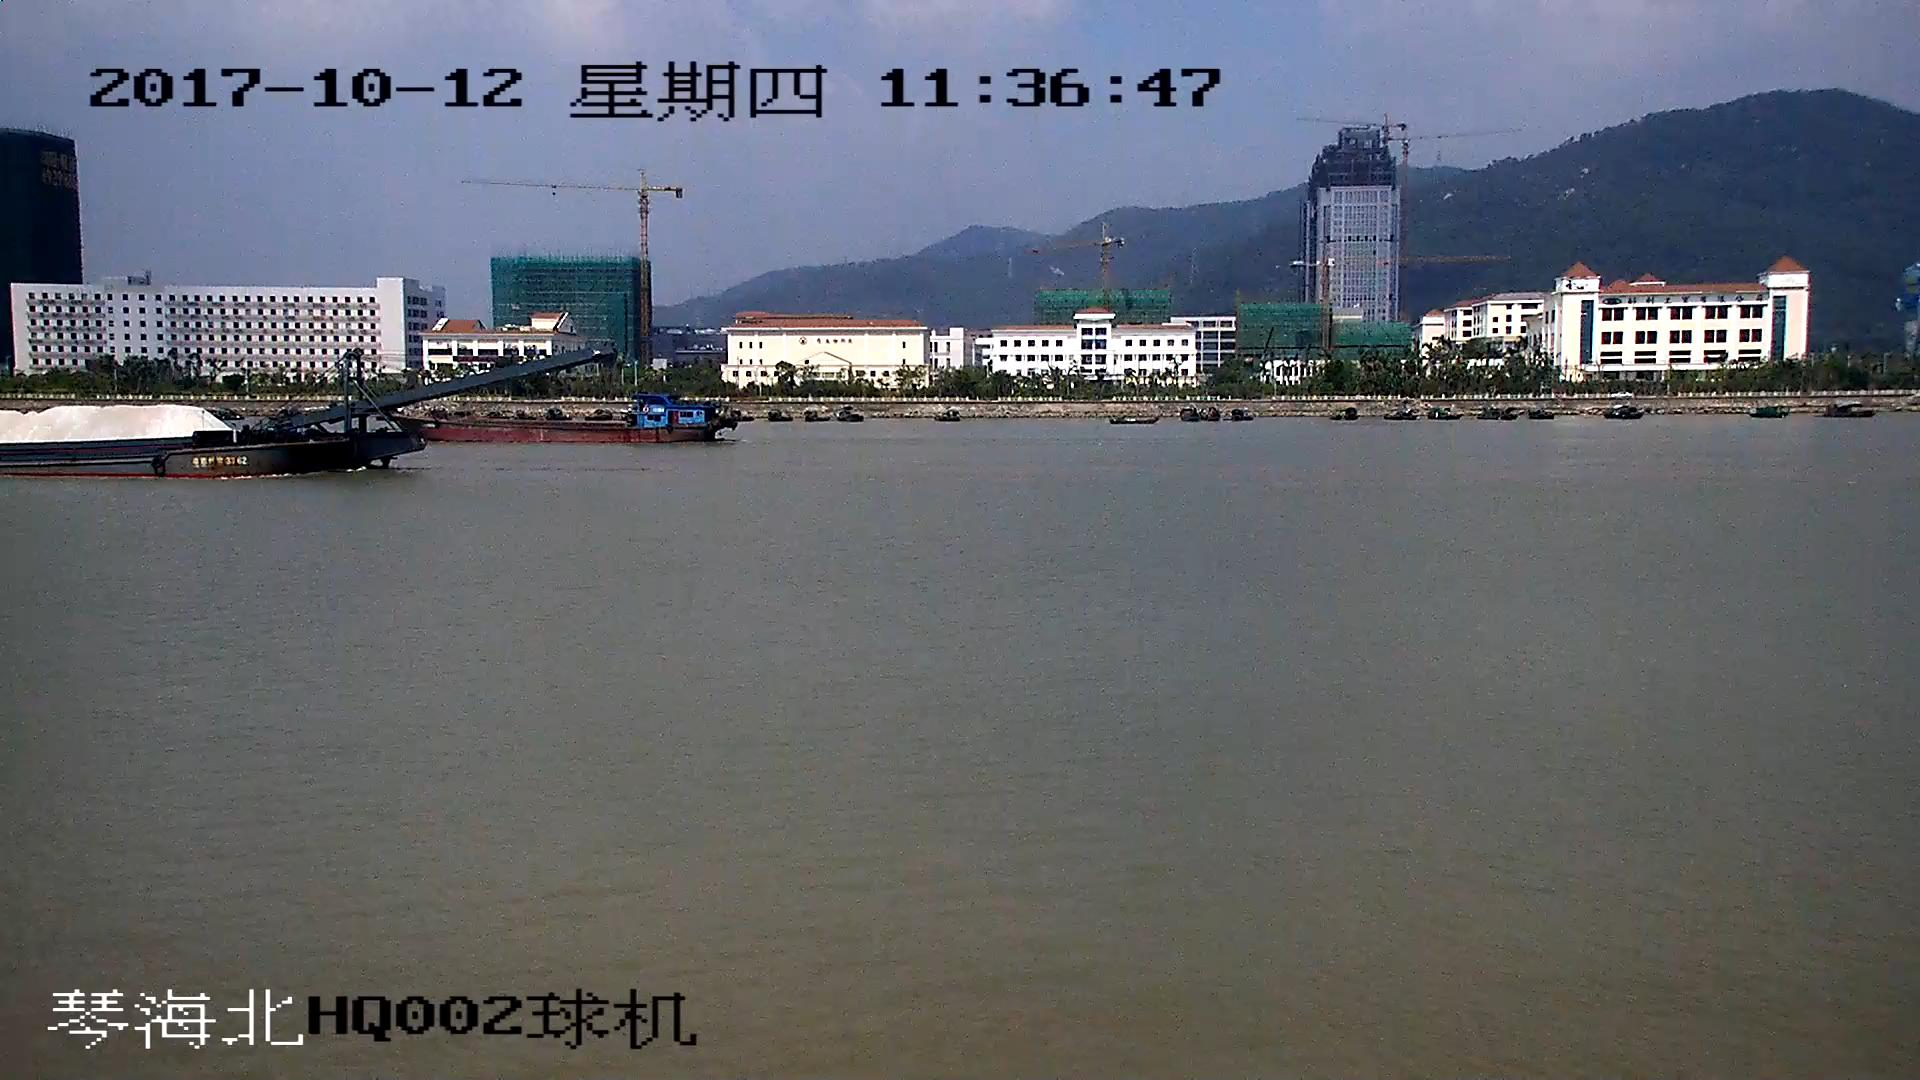bulk cargo carrier: (435, 399, 742, 447)
ore carrier: (1, 352, 597, 475)
